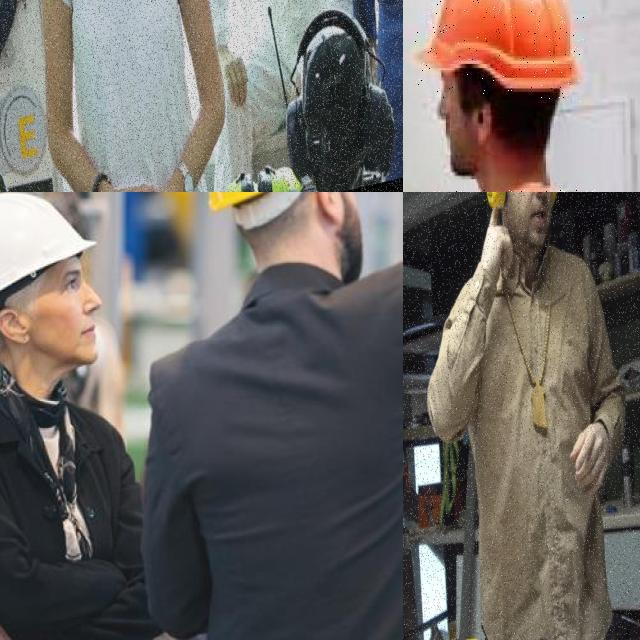Ear-protection: (480, 192, 514, 219)
No_Ear-Protection: (0, 300, 36, 360), (308, 192, 352, 238), (472, 102, 496, 154)
No_Glasses: (42, 258, 102, 301)
head_helmet: (423, 0, 578, 91)
